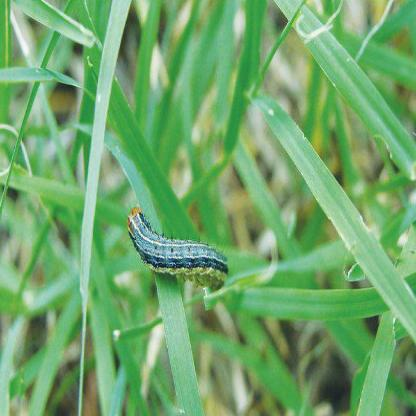armyworm: (126, 205, 229, 297)
